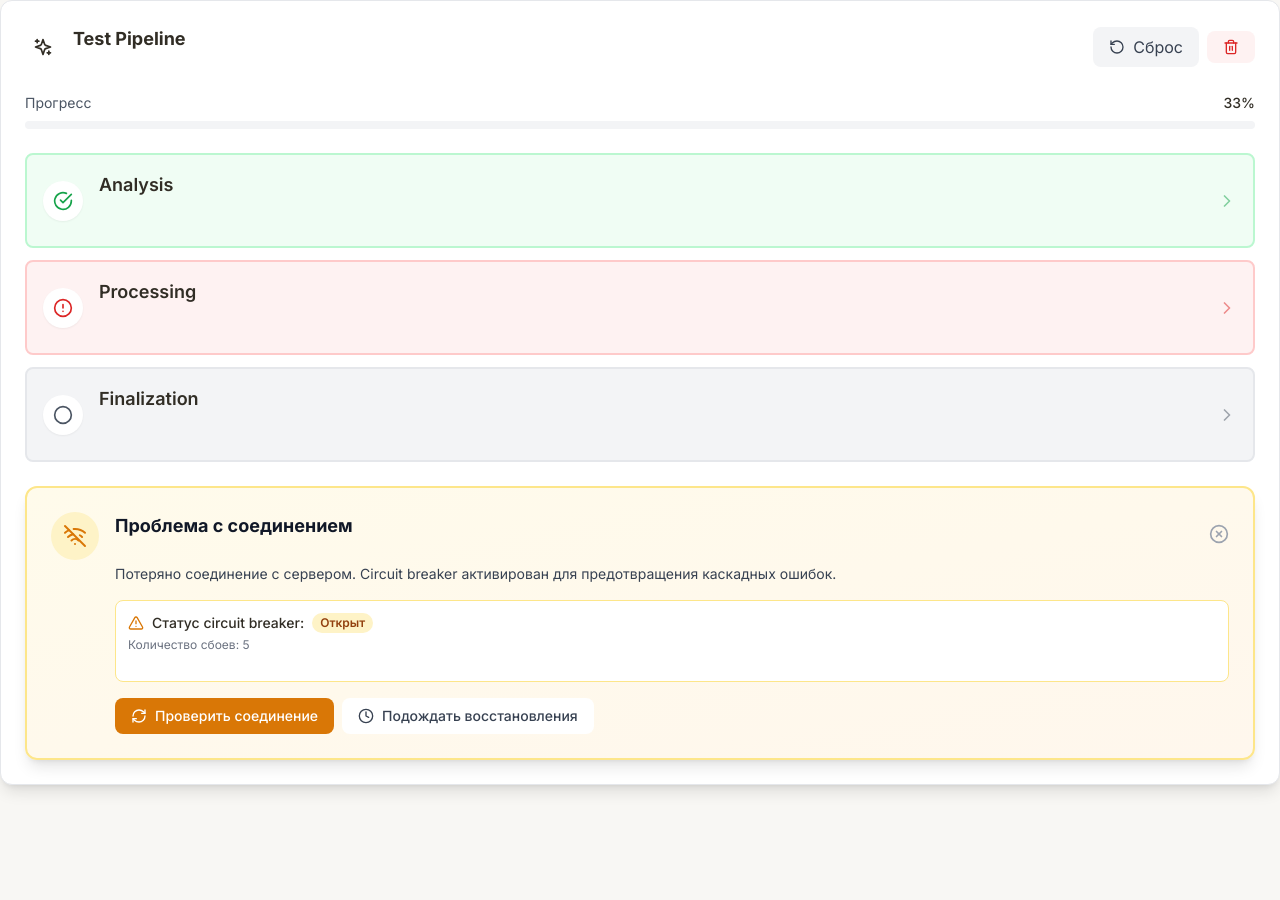
Test case: PipelineVisualizer Stress Tests - Error Recovery › Network Error Recovery › должен закрывать панель при "Подождать восстановления"
This screenshot has width=1280, height=900.
Click the button "Подождать восстановления" at (468, 716), box [342, 698, 594, 734]
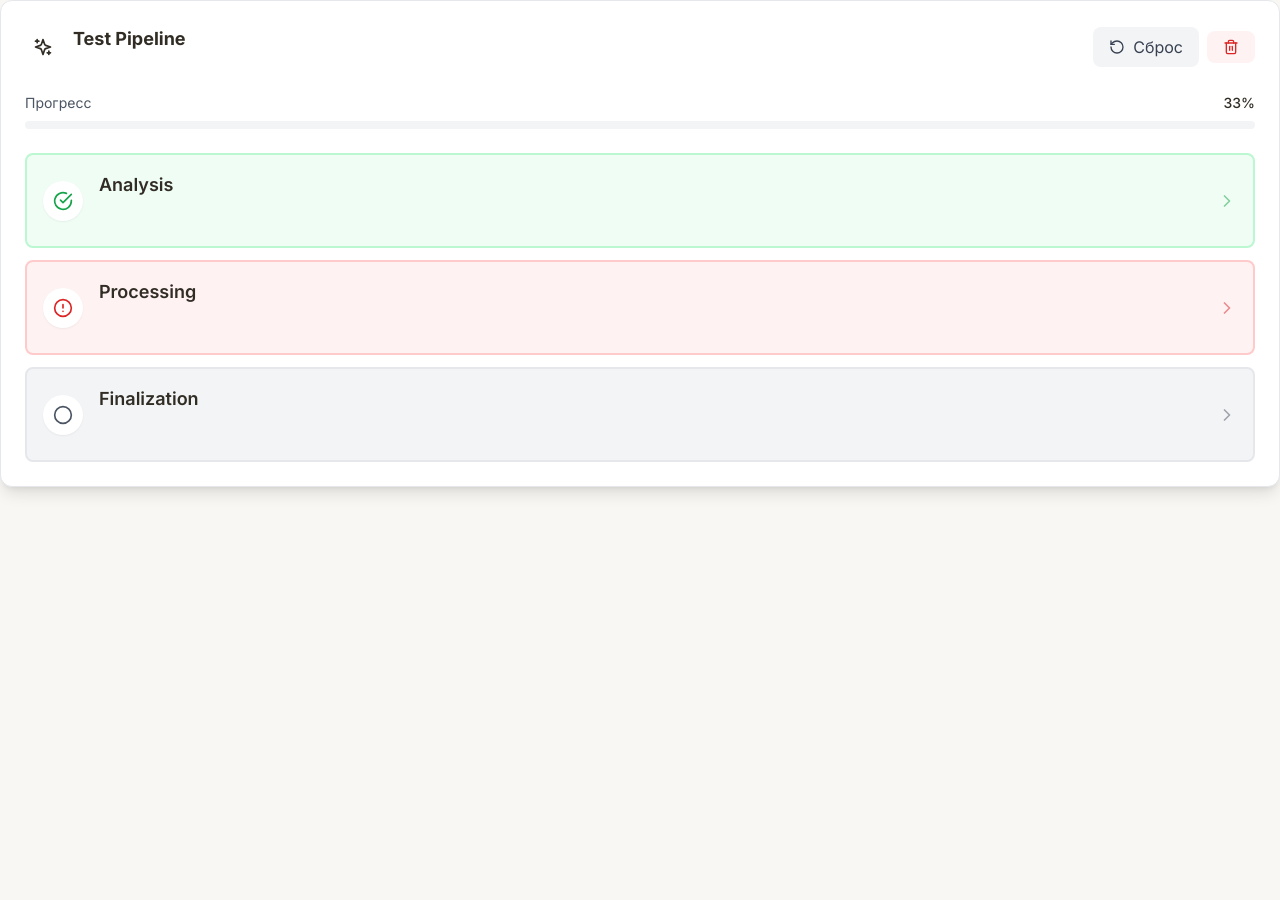
Expected: the heading "Проблема с соединением" is gone
